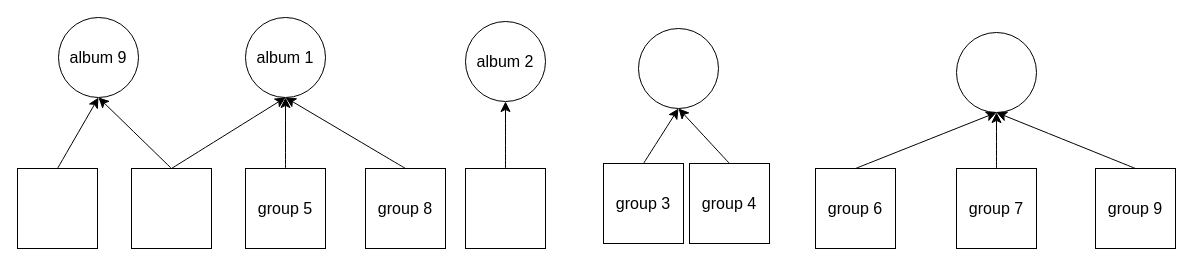
Some shapes in this 1193 by 266 pixel diagram are drawn without their labels. The shapes that lost their labels are listed below. From the top down, each one's centre as x and y in pixels, then its label:
the point at 678,68: album 3
the point at 996,72: album 4
the point at 57,208: group 10
the point at 171,208: group 1
the point at 505,208: group 2
